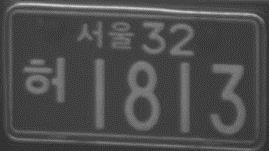1: (176, 60, 196, 137), (90, 56, 110, 130)
2: (166, 21, 195, 58)
3: (209, 60, 246, 137), (140, 20, 168, 56)
8: (123, 57, 162, 131)
서울_O: (76, 19, 136, 53)
허: (21, 55, 67, 104)
